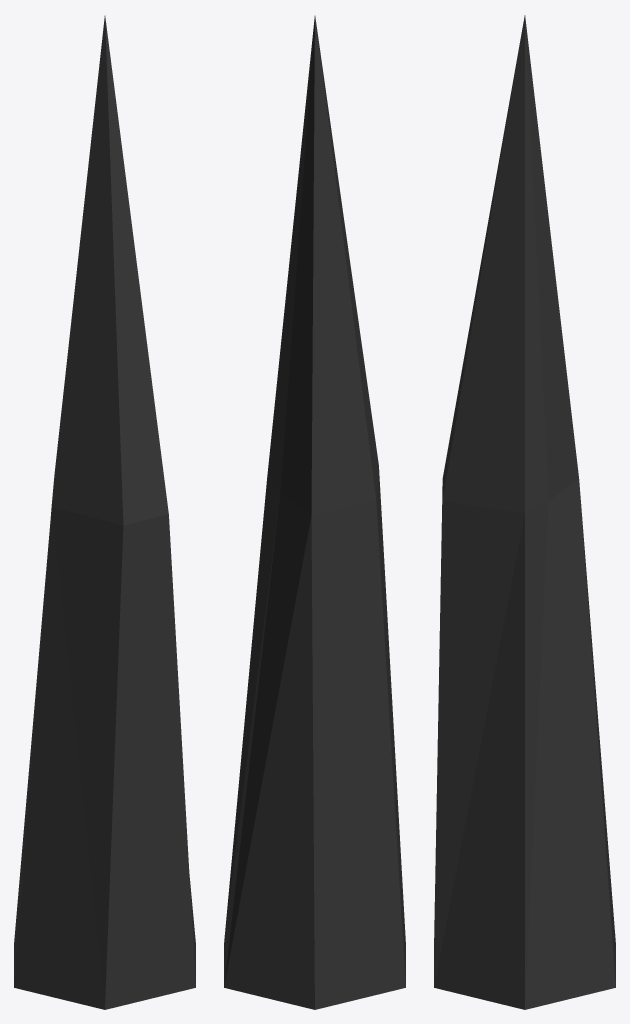
Rendered from Stal_1C.fbx.
3 renders of one model, left to right at view 1: azimuth 30°, elevation 25°; view 2: azimuth 150°, elevation 25°; view 3: azimuth 270°, elevation 25°, orthographic.
Parts seen in each view (by area): view 1: pCone41; view 2: pCone41; view 3: pCone41.
Boxes of the visible parts, box(x1,y1,x2,y2) form: pCone41: box(14, 15, 195, 1009); pCone41: box(224, 15, 405, 1009); pCone41: box(434, 15, 615, 1009).
Bounding box in the file's own units: 0.4 × 2 × 0.3464.
